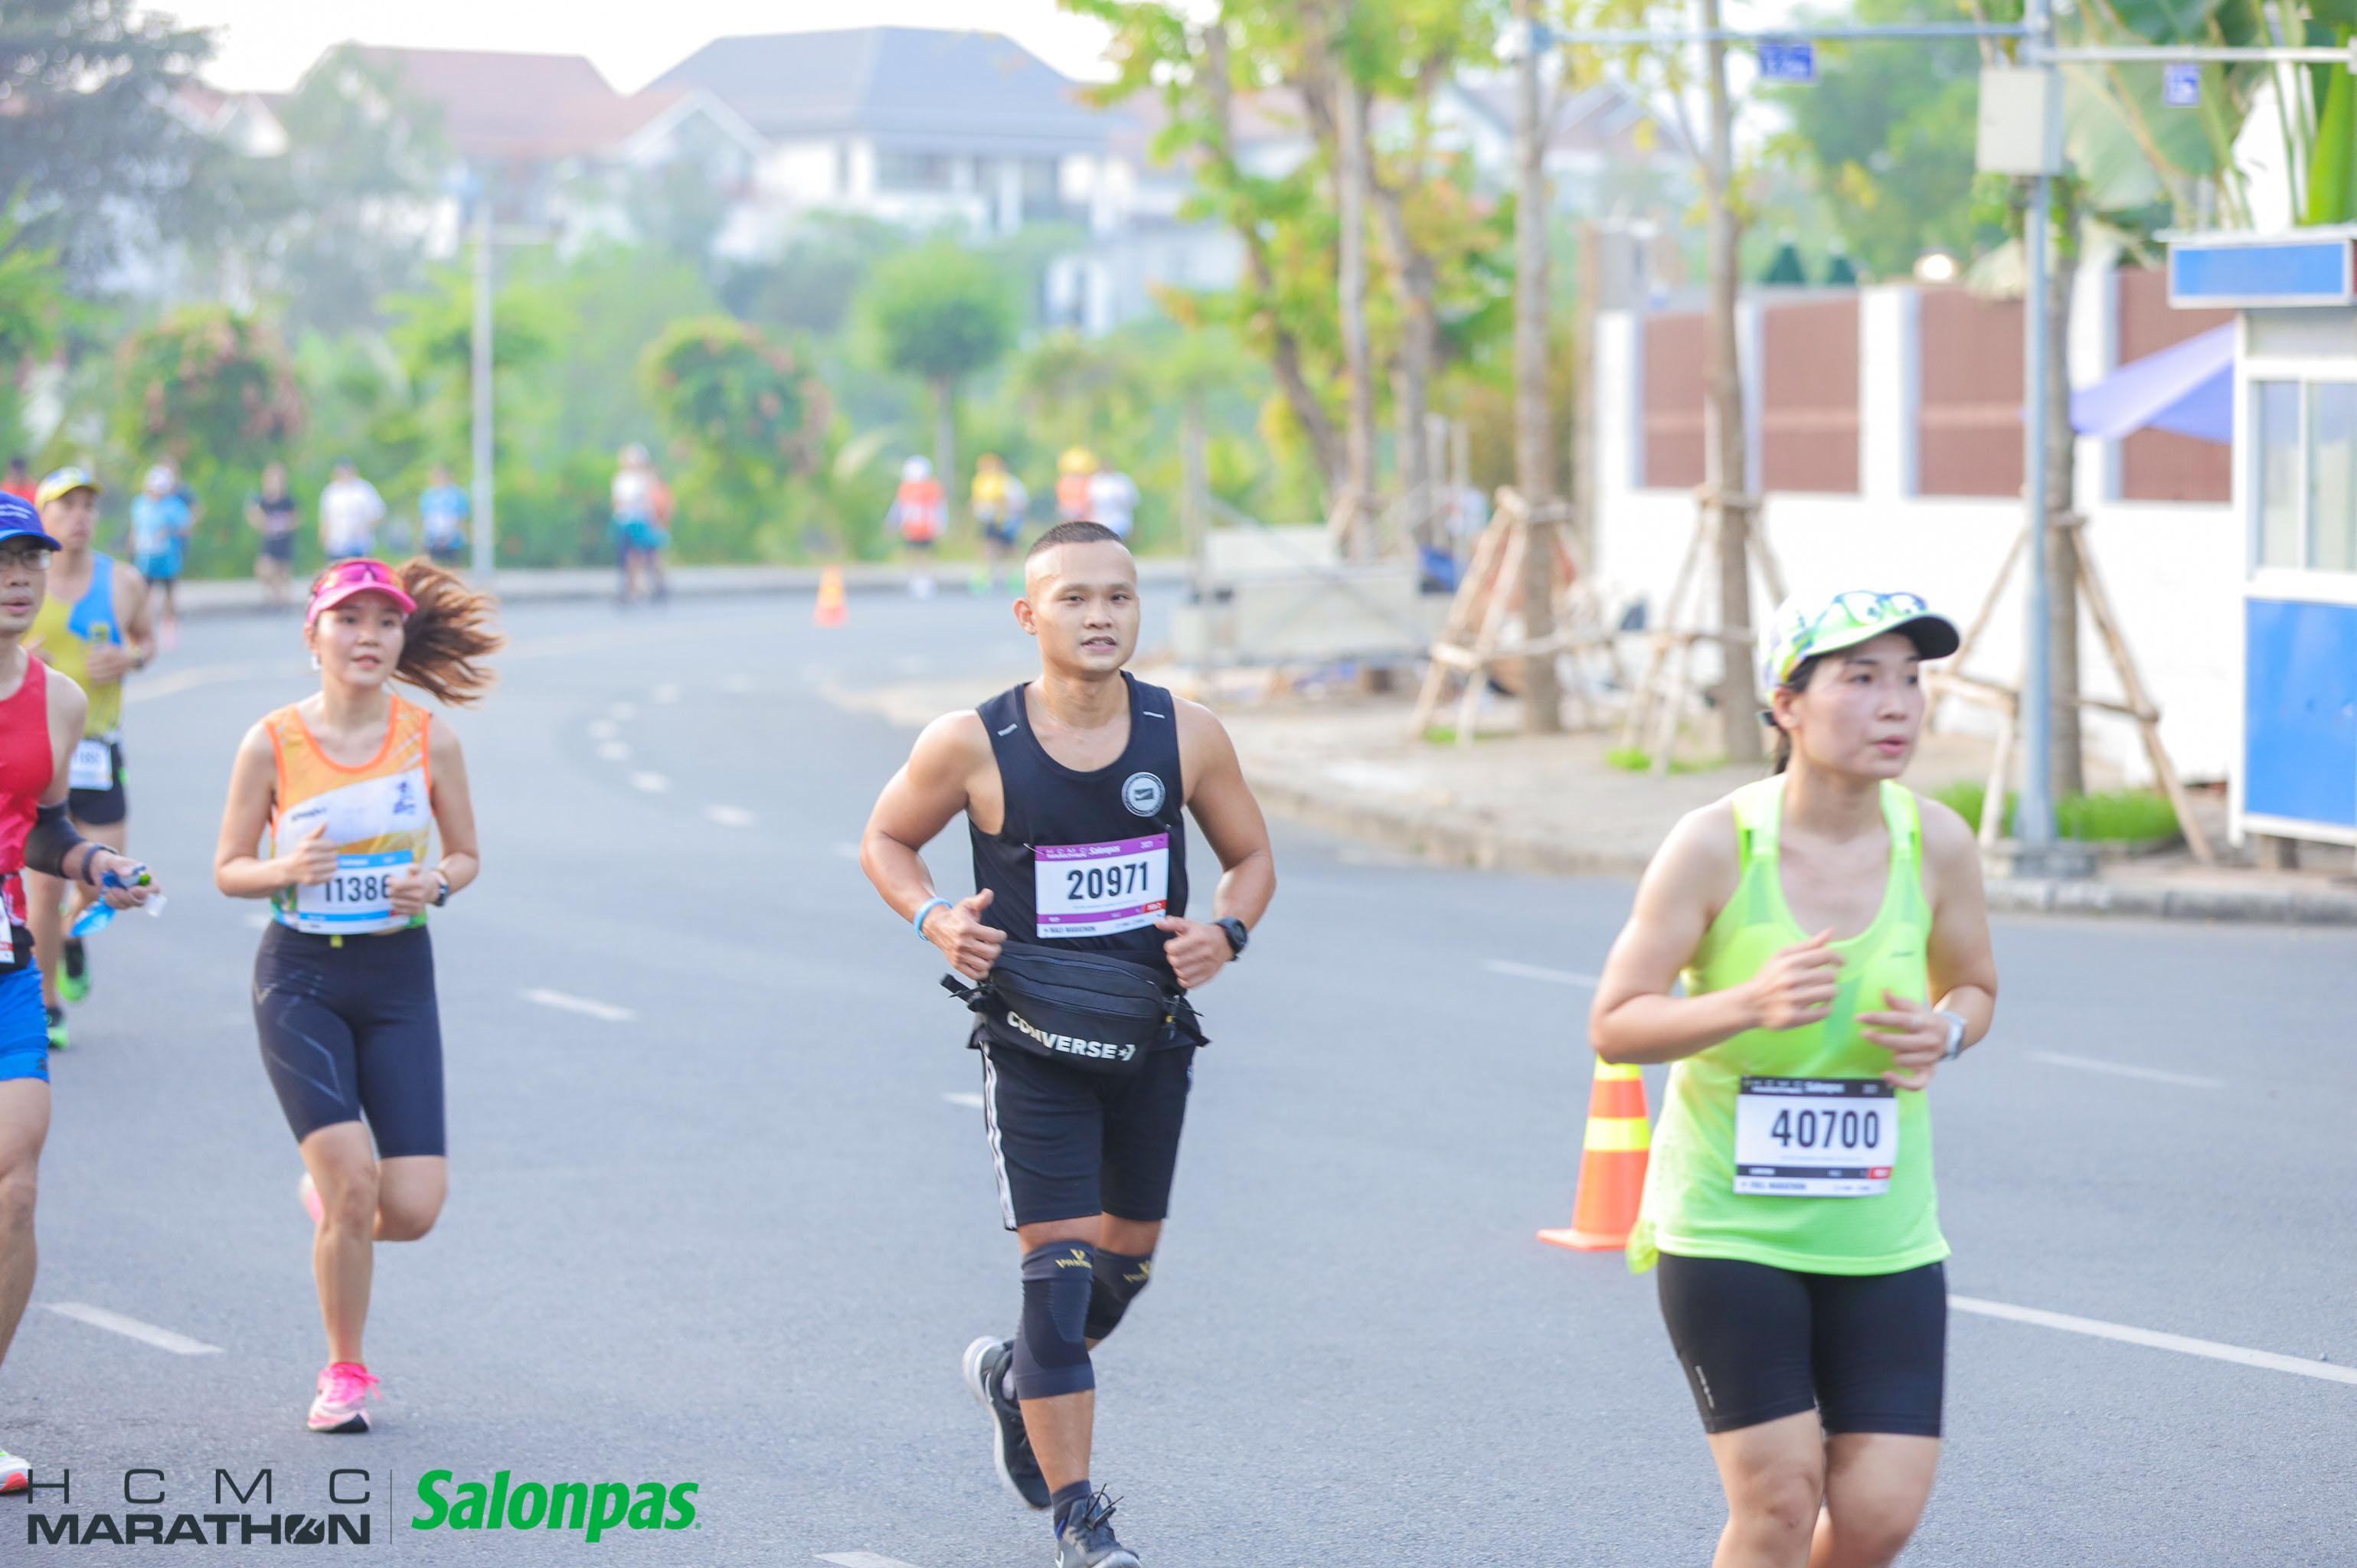bib: (1739, 1081, 1899, 1192), (1031, 842, 1171, 934), (299, 852, 418, 929)
